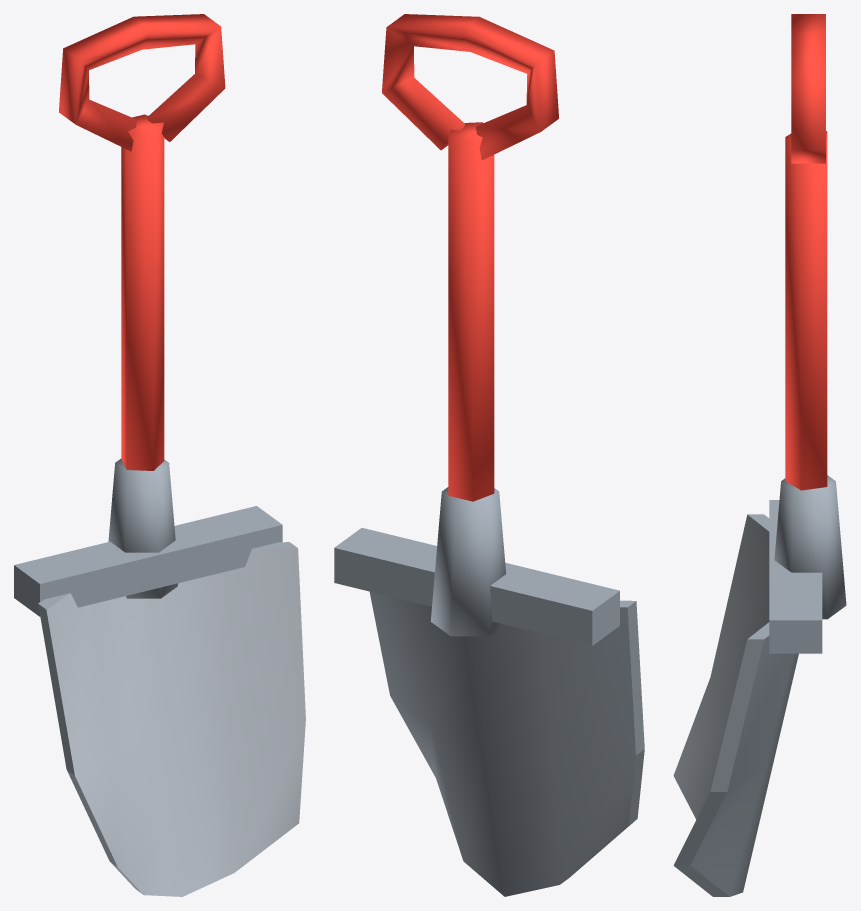
The model's file is tin-shovel.glb.
3 renders of one model, left to right at view 1: azimuth 30°, elevation 25°; view 2: azimuth 150°, elevation 25°; view 3: azimuth 270°, elevation 25°, orthographic. The views are drawn at different scales.
Parts seen in each view (by area): view 1: tin-shovel; view 2: tin-shovel; view 3: tin-shovel.
Part boxes in pixels (left/top/right/bottom): tin-shovel: left=14, top=14, right=305, bottom=896; tin-shovel: left=334, top=14, right=644, bottom=896; tin-shovel: left=673, top=14, right=846, bottom=896.
Bounding box in the file's own units: 0.28 × 0.8975 × 0.164.
